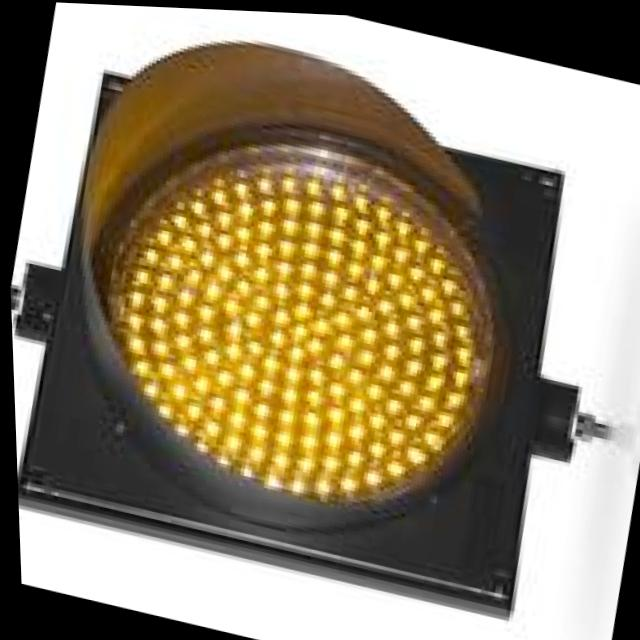yellow_light: (45, 45, 571, 573)
